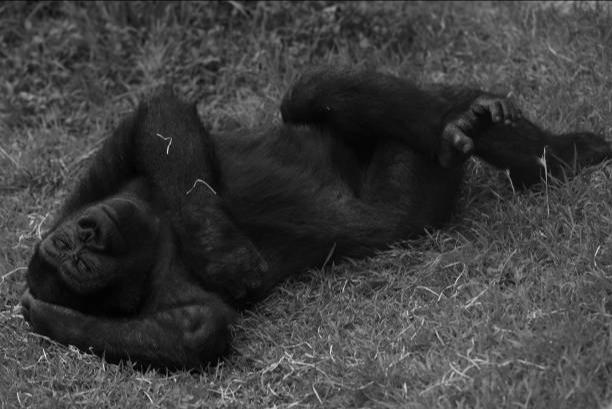gorille_Autres: (9, 35, 606, 386)
